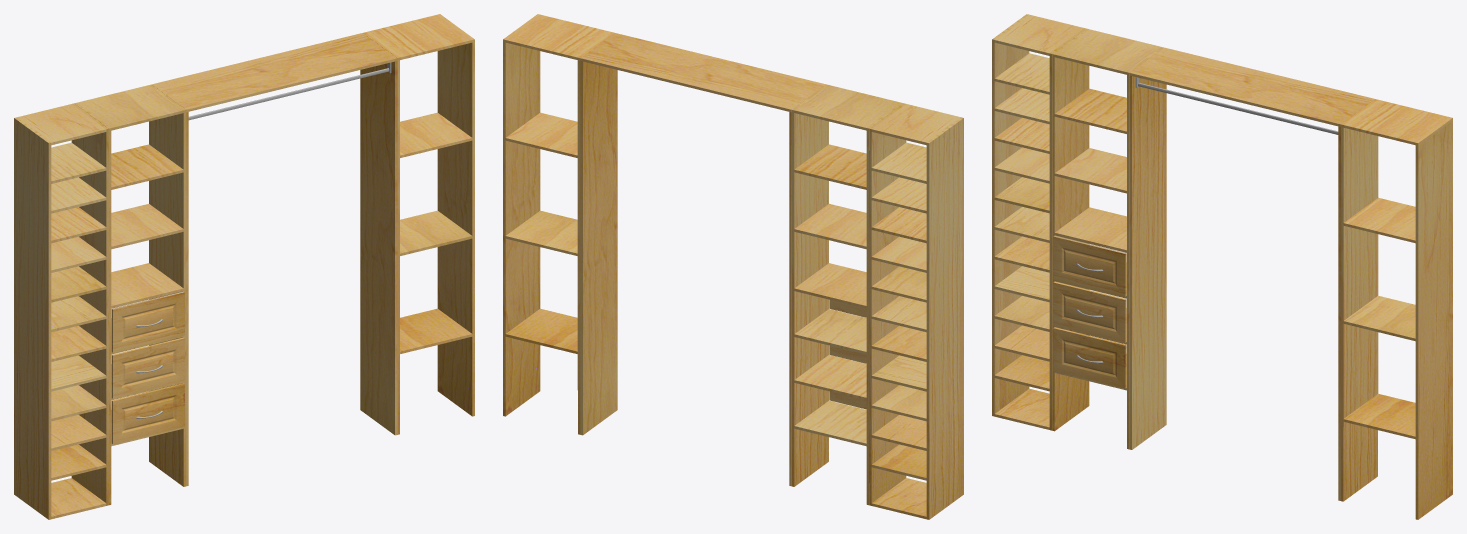
3 views of the same model, side by side, from view 1: azimuth 30°, elevation 25°; view 2: azimuth 150°, elevation 25°; view 3: azimuth 330°, elevation 25° (orthographic).
Visible parts, largest first — view 1: closet_shelves; view 2: closet_shelves; view 3: closet_shelves.
Boxes of the visible parts, x1,y1,x2,y2 form: closet_shelves: [14, 14, 474, 519]; closet_shelves: [503, 14, 963, 519]; closet_shelves: [992, 14, 1452, 519].
Bounding box in the file's own units: 39.05 × 32.98 × 6.16.
Materials: 1 (1 with a texture image).
